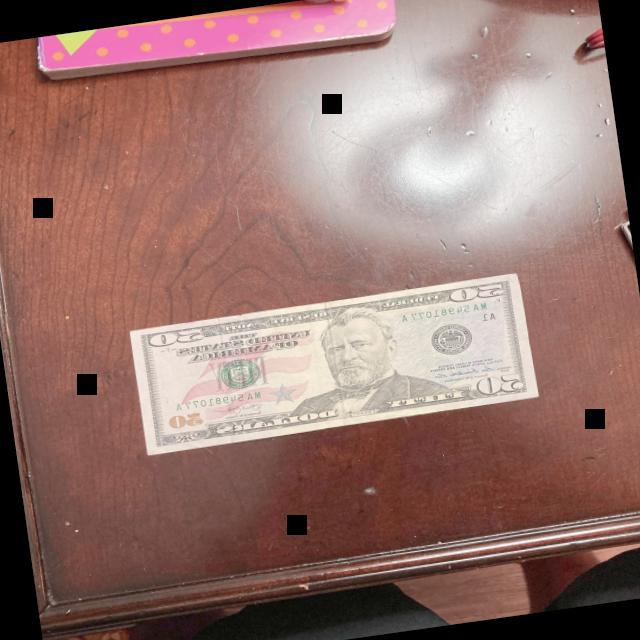fifty: (126, 270, 540, 456)
